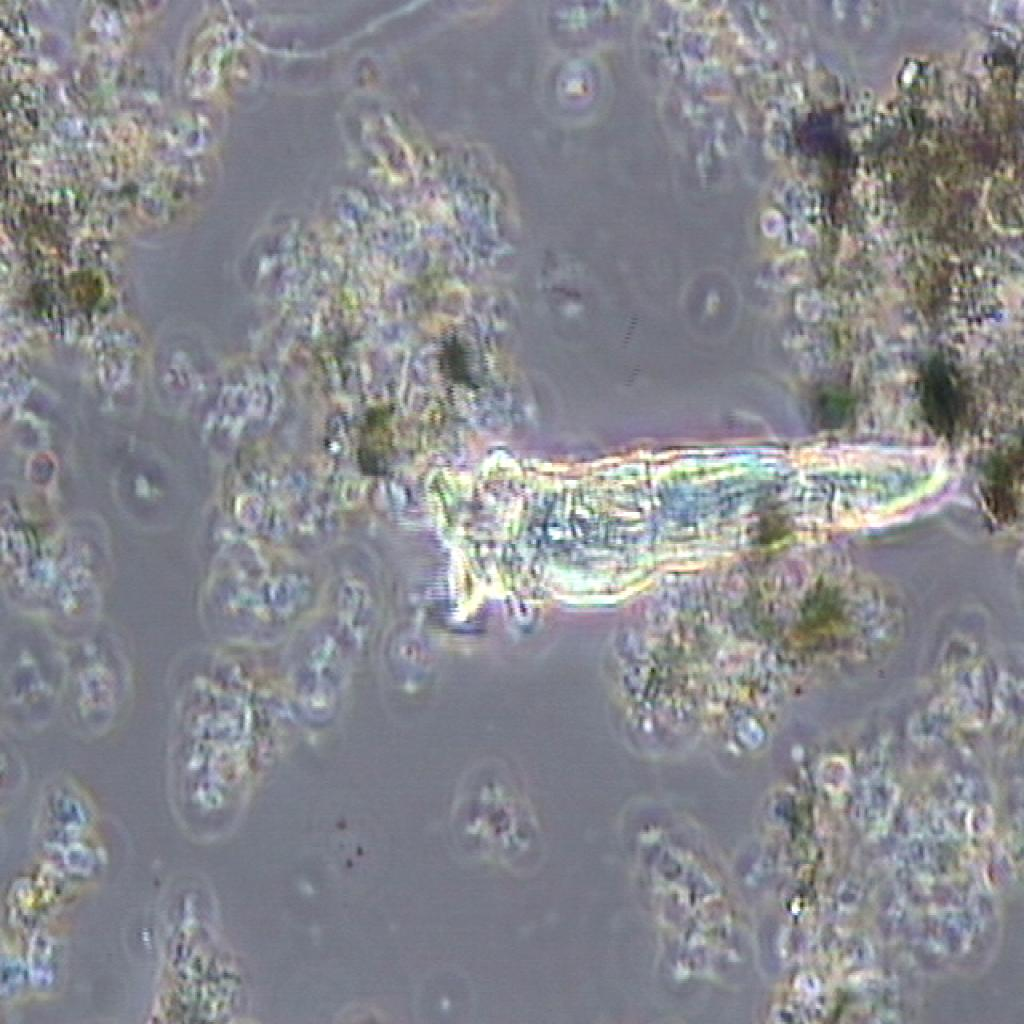Rotatoria: (379, 404, 976, 628)
